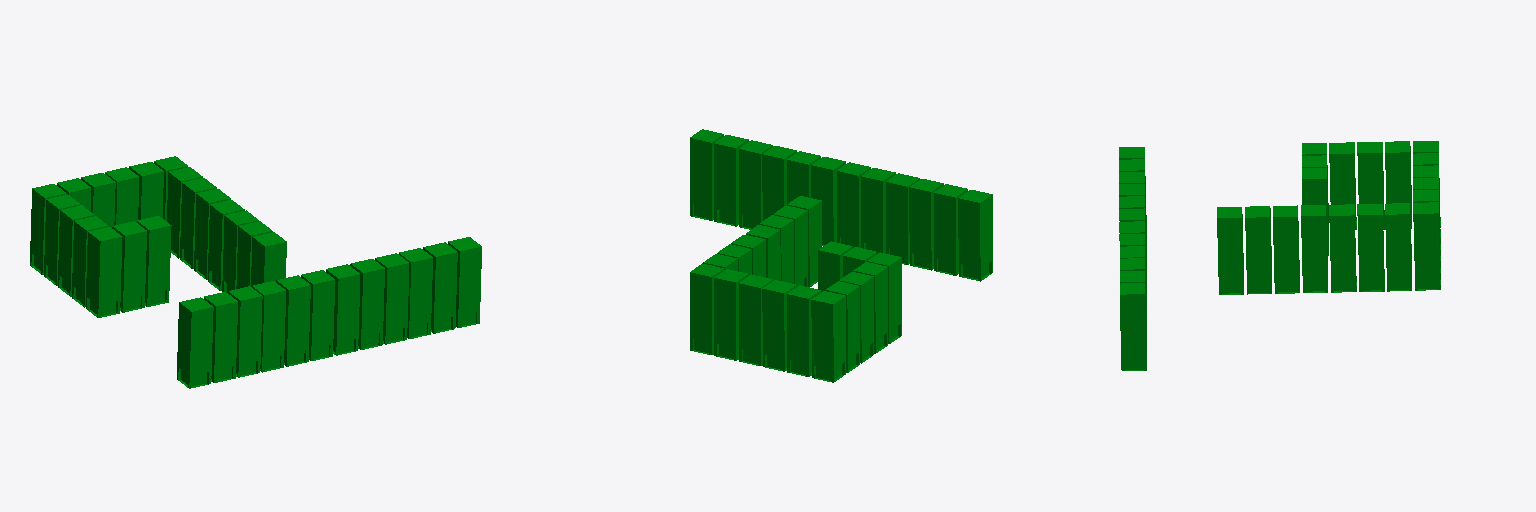
3 renders of one model, left to right at view 1: azimuth 30°, elevation 25°; view 2: azimuth 150°, elevation 25°; view 3: azimuth 270°, elevation 25°, orthographic.
Parts seen in each view (by area): view 1: Cube.001; view 2: Cube.001; view 3: Cube.001.
Part boxes in pixels (x1,y1,x2,y2): Cube.001: (30,156,481,388); Cube.001: (690,129,992,382); Cube.001: (1119,141,1440,370).
Bounding box in the file's own units: 51.34 × 15.08 × 48.92.
Materials: 1 (1 with a texture image).